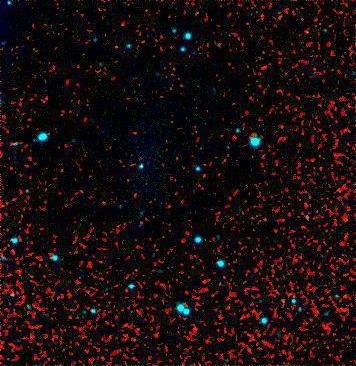star: (266, 288, 296, 318)
